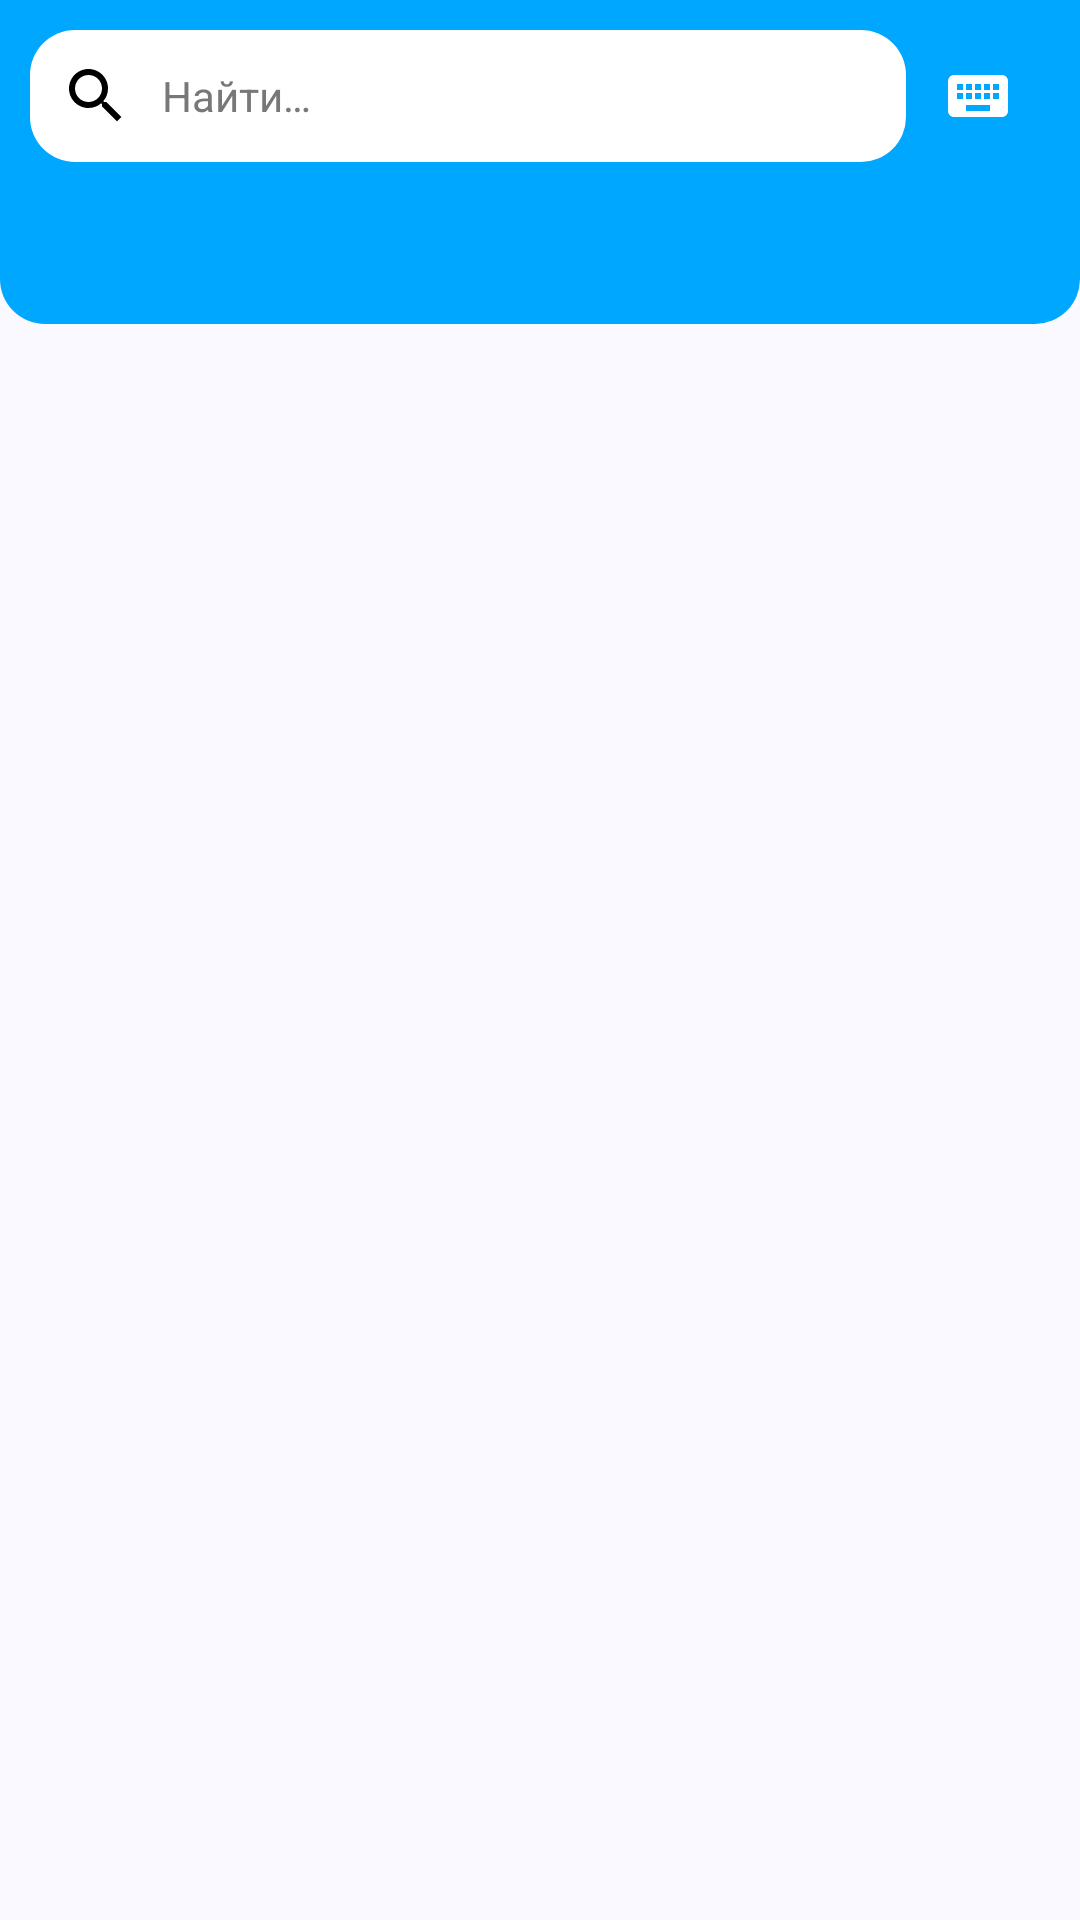

Where icons sit on this 1080x1920 app screen, as Rect(x1, y1, x2, y2):
keyboard: Rect(948, 75, 1008, 117)
